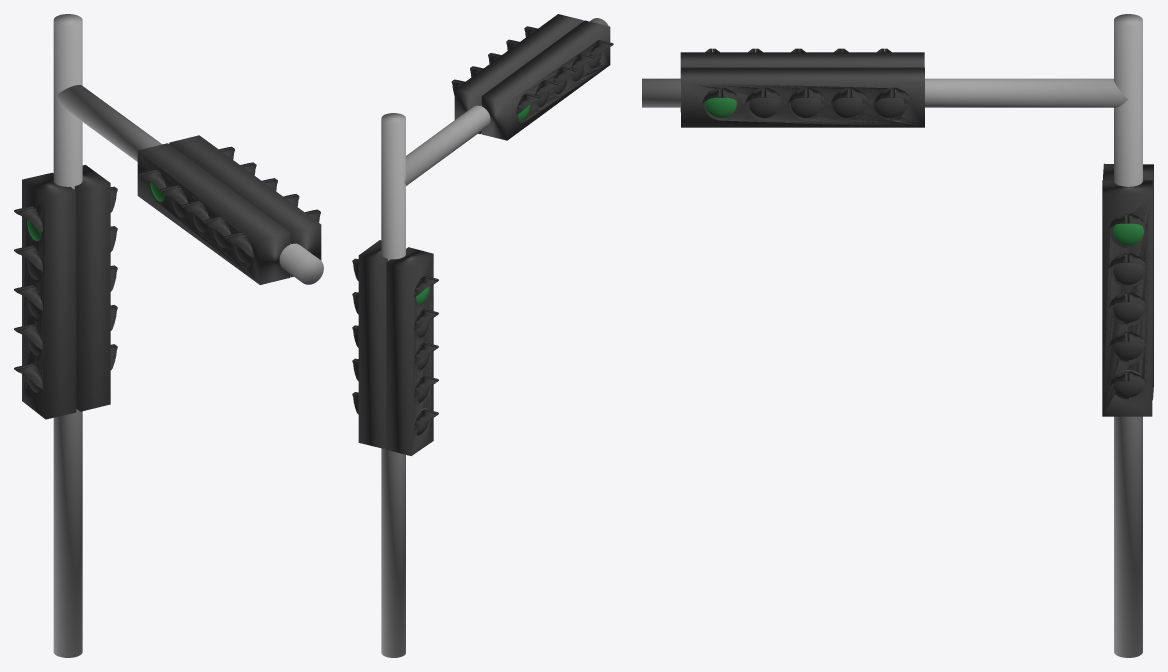
File: traffic light.fbx
3 views of the same model, side by side, from view 1: azimuth 30°, elevation 25°; view 2: azimuth 150°, elevation 25°; view 3: azimuth 270°, elevation 25° (orthographic). The views are drawn at different scales.
Parts seen in each view (by area): view 1: Circle, Cube.002, Cube.003, Cube.001, Cube, Circle.001, Plane.003, Plane.004, Plane.002, Circle.009, Plane.001, Circle.007; view 2: Circle, Cube.002, Cube.003, Cube.001, Cube, Circle.001, Plane.003, Plane.004, Plane.002, Circle.007, Plane.001, Circle.009; view 3: Circle, Cube, Cube.001, Circle.001, Cube.003, Circle.003, Circle.005, Plane.001, Plane.002, Cube.002.
Boxes of the visible parts, bbox=[...] form: Circle: bbox=[53, 14, 82, 657]; Cube.002: bbox=[22, 172, 76, 419]; Cube.003: bbox=[137, 143, 290, 284]; Cube.001: bbox=[74, 165, 110, 411]; Cube: bbox=[169, 135, 321, 277]; Circle.001: bbox=[55, 85, 323, 284]; Plane.003: bbox=[14, 206, 42, 389]; Plane.004: bbox=[138, 169, 253, 257]; Plane.002: bbox=[110, 186, 117, 370]; Circle.009: bbox=[172, 198, 252, 265]; Plane.001: bbox=[219, 146, 320, 222]; Circle.007: bbox=[27, 259, 41, 392]; Circle: bbox=[381, 113, 405, 657]; Cube.002: bbox=[386, 247, 433, 455]; Cube.003: bbox=[481, 20, 610, 140]; Cube.001: bbox=[358, 240, 387, 448]; Cube: bbox=[454, 14, 583, 133]; Circle.001: bbox=[404, 18, 608, 185]; Plane.003: bbox=[414, 275, 438, 430]; Plane.004: bbox=[516, 40, 613, 114]; Plane.002: bbox=[352, 258, 358, 414]; Circle.007: bbox=[416, 319, 429, 435]; Plane.001: bbox=[451, 26, 537, 95]; Circle.009: bbox=[536, 51, 601, 107]; Circle: bbox=[1114, 14, 1142, 657]; Cube: bbox=[681, 67, 924, 127]; Cube.001: bbox=[1102, 180, 1152, 416]; Circle.001: bbox=[642, 78, 1128, 107]; Cube.003: bbox=[680, 52, 924, 111]; Circle.003: bbox=[749, 90, 907, 117]; Circle.005: bbox=[1113, 263, 1143, 399]; Plane.001: bbox=[702, 87, 912, 104]; Plane.002: bbox=[1108, 213, 1146, 388]; Cube.002: bbox=[1103, 163, 1153, 400].
Size of the model in its own units: 79.13 by 478 by 351.
